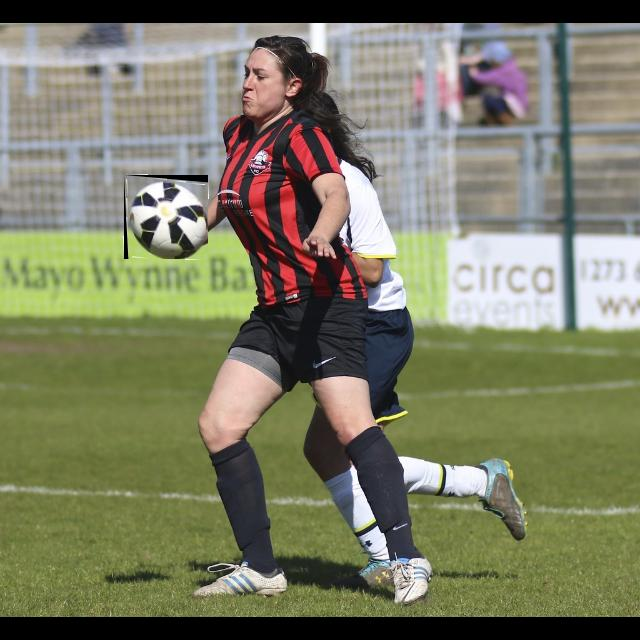Football: (124, 175, 208, 259)
